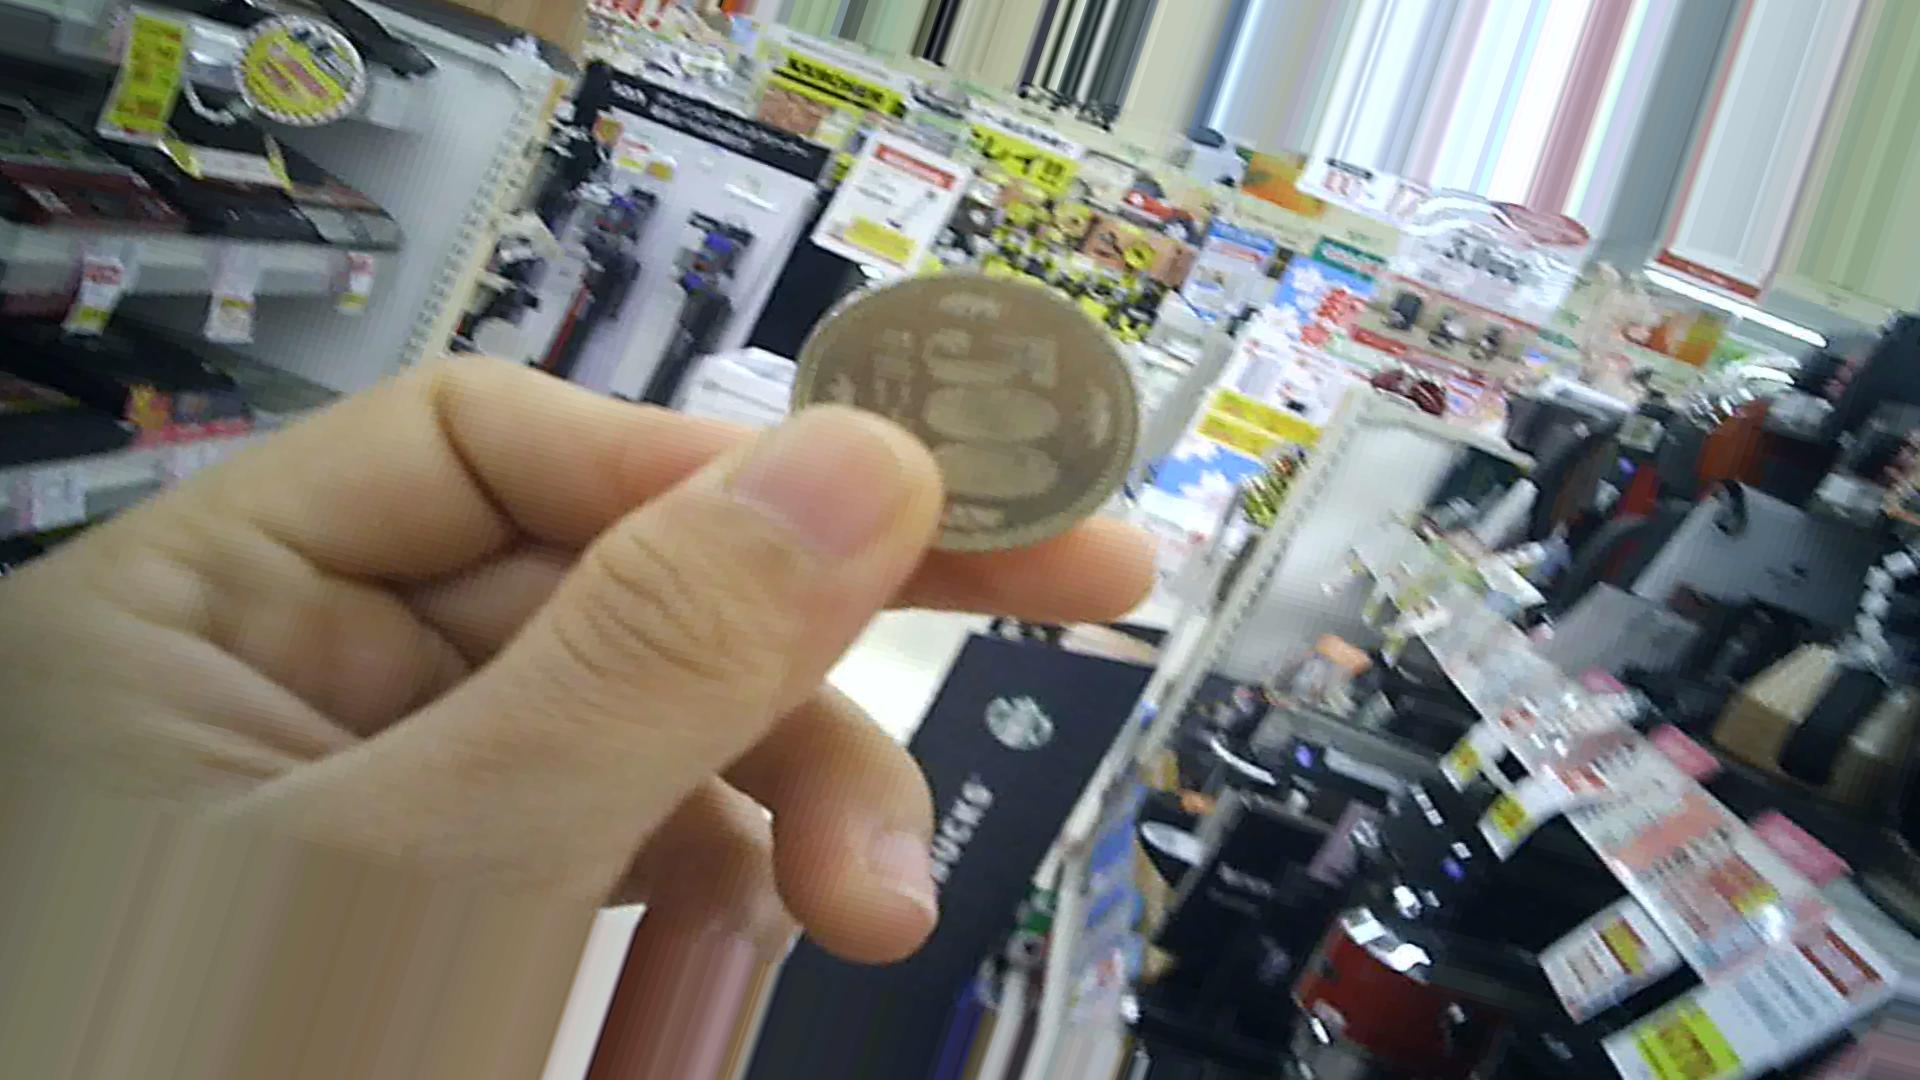500 Yen: (789, 265, 1138, 564)
